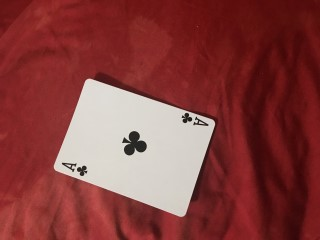AceOfClubs: (53, 78, 216, 217)
